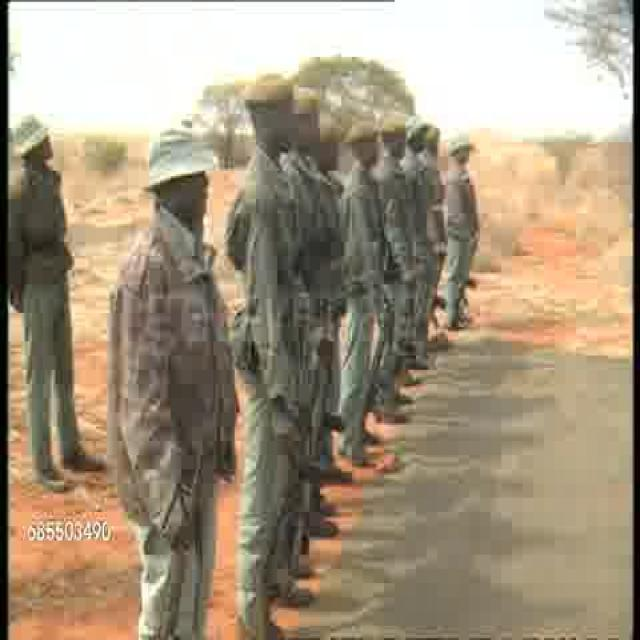poacher: (106, 124, 222, 616), (233, 48, 295, 610), (10, 106, 99, 484), (293, 67, 331, 521), (338, 119, 389, 443), (348, 132, 386, 446), (446, 119, 486, 308), (422, 119, 444, 338)
